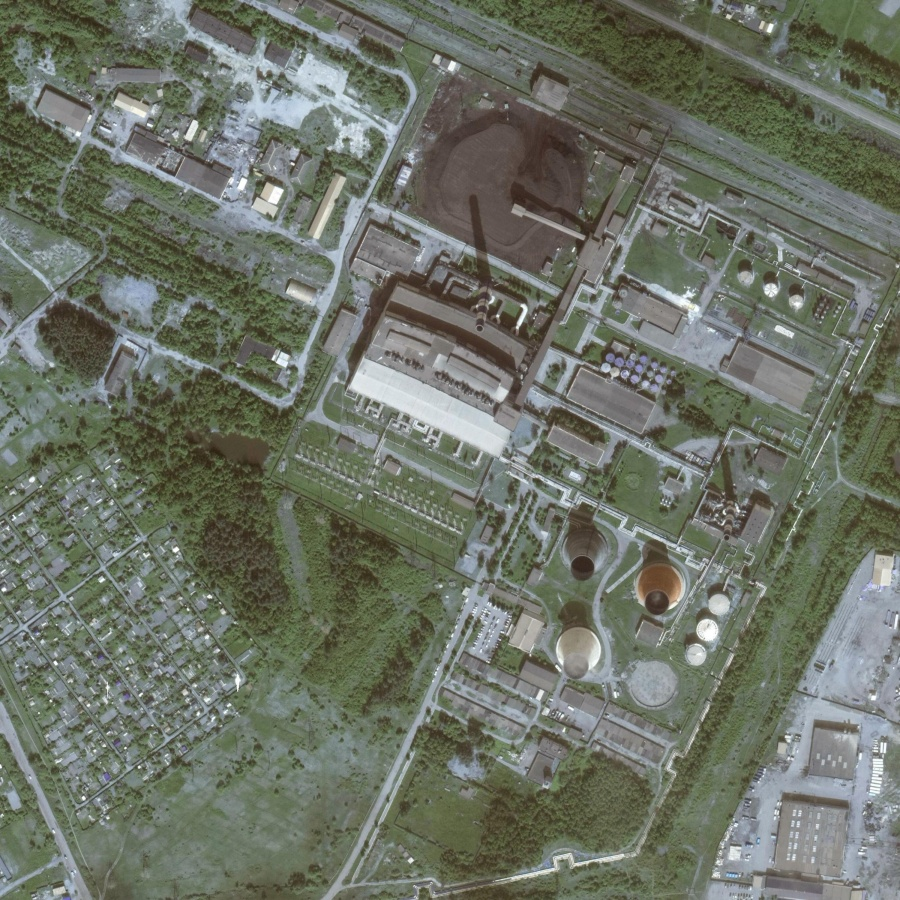PowerPlant: (341, 92, 806, 694)
